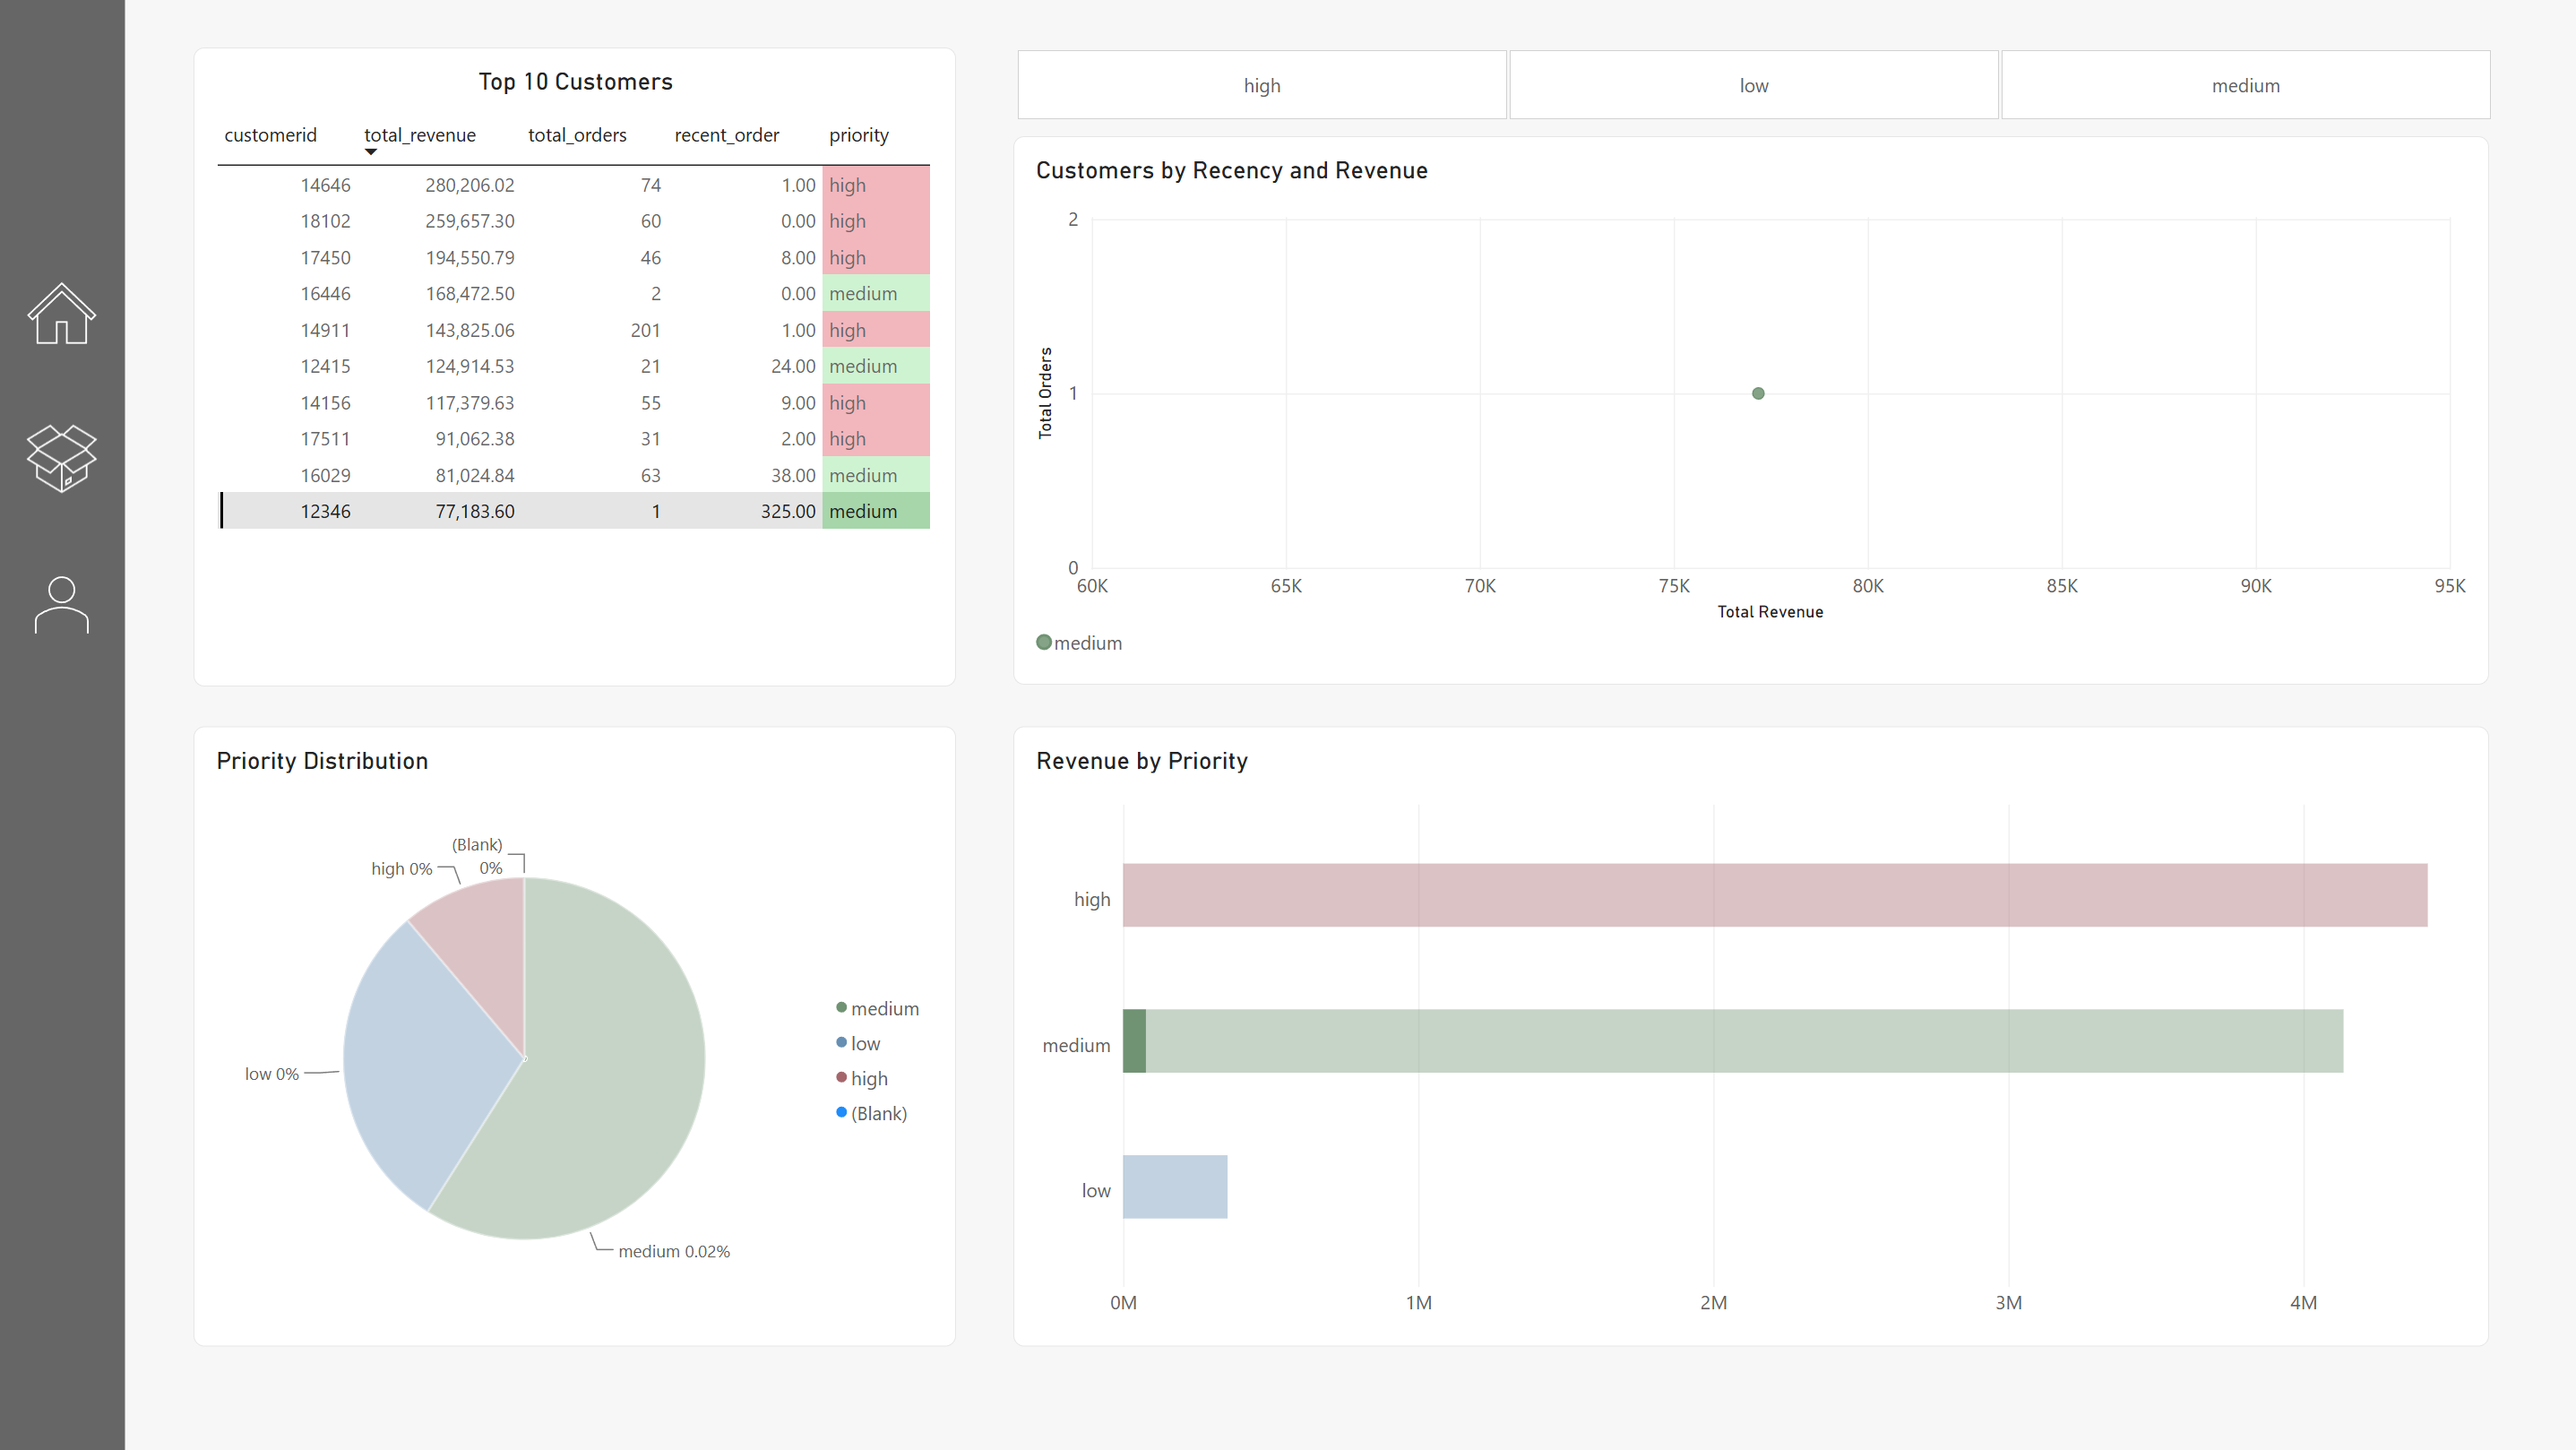

The dashboard page shown, as its layout file describes it:
{"tool":"powerbi","page":{"name":"Customers & RFM","canvas":[1920,1080],"ordinal":2},"visuals":[{"type":"shape","box":[0,0,94.7,1080],"z":0},{"type":"pieChart","title":"Priority Distribution","fields":{"Category":["customer_rfm.priority"],"Y":["Measures Table.Total Customers"]},"box":[146.4,540.6,567,461.3],"z":1000},{"type":"clusteredBarChart","title":"Revenue by Priority","fields":{"Category":["customer_rfm.priority"],"Y":["Sum(customer_rfm.total_revenue)"]},"box":[756.3,540.6,1097.6,461.3],"z":2000},{"type":"tableEx","title":"Top 10 Customers","fields":{"Values":["customer_rfm.customerid","customer_rfm.total_revenue","customer_rfm.total_orders","customer_rfm.recent_order","customer_rfm.priority"]},"box":[146.4,36.3,567,474.5],"z":3000},{"type":"scatterChart","title":"Customers by Recency and Revenue","fields":{"Category":["customer_rfm.customerid"],"Series":["customer_rfm.priority"],"X":["customer_rfm.total_revenue"],"Y":["Sum(customer_rfm.total_orders)"]},"box":[756.3,102.4,1097.6,407.3],"z":4000},{"type":"slicer","fields":{"Values":["customer_rfm.priority"]},"box":[737.6,36.3,1136.1,55],"z":5000},{"type":"actionButton","box":[0,287,95,109],"z":5001},{"type":"actionButton","box":[0,396,95,109],"z":5002},{"type":"actionButton","box":[0,178,95,109],"z":5003}]}

Visuals, with their boxes on the page's 1920x1080 design canvas (x1, y1, x2, y2). These are canvas units, not pixel positions in the 2576x1450 screenshot, which may show the page scaled, cropped or inside an application window:
shape: (left=0, top=0, right=95, bottom=1080)
"Priority Distribution" pieChart: (left=146, top=541, right=713, bottom=1002)
"Revenue by Priority" clusteredBarChart: (left=756, top=541, right=1854, bottom=1002)
"Top 10 Customers" tableEx: (left=146, top=36, right=713, bottom=511)
"Customers by Recency and Revenue" scatterChart: (left=756, top=102, right=1854, bottom=510)
slicer - customer_rfm.priority: (left=738, top=36, right=1874, bottom=91)
actionButton: (left=0, top=287, right=95, bottom=396)
actionButton: (left=0, top=396, right=95, bottom=505)
actionButton: (left=0, top=178, right=95, bottom=287)
